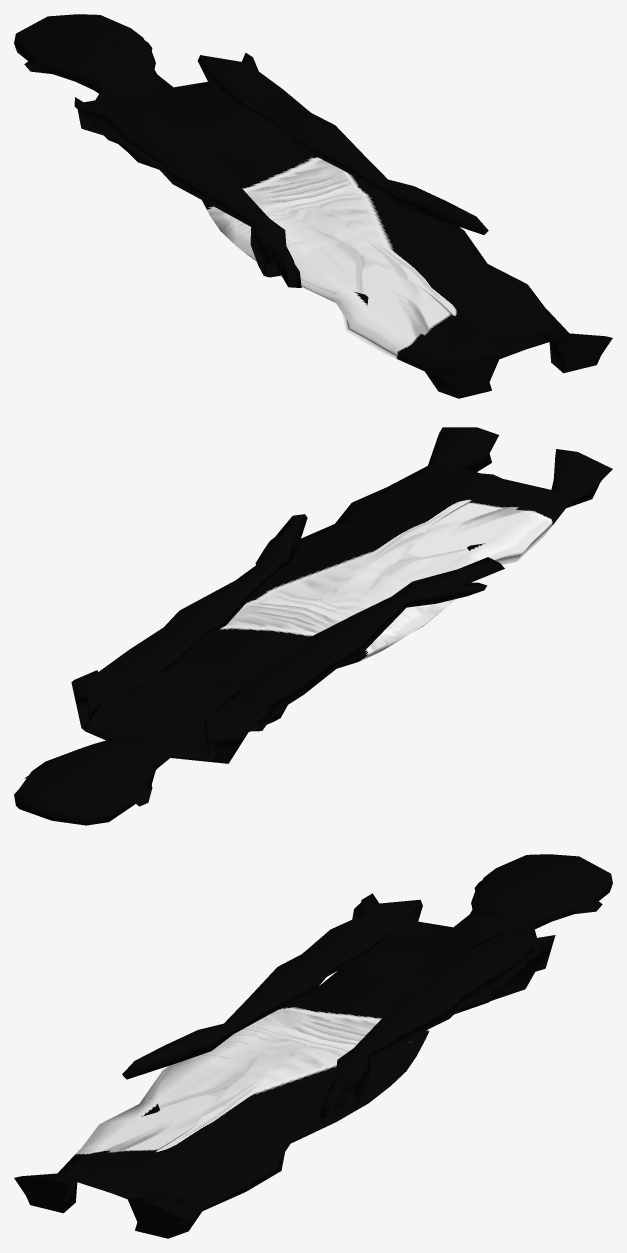
Rendered from WorldItem_General_2.fbx.
The picture shows the model from 3 angles, top to bottom: view 1: azimuth 30°, elevation 25°; view 2: azimuth 150°, elevation 25°; view 3: azimuth 330°, elevation 25°; orthographic projection.
Visible parts, largest first — view 1: Body; view 2: Body; view 3: Body.
Boxes of the visible parts, box(x1,y1,x2,y2) form: Body: box(14, 14, 612, 398); Body: box(14, 427, 612, 825); Body: box(14, 854, 612, 1238).
Bounding box in the file's own units: 0.1995 × 0.0422 × 0.7954.
